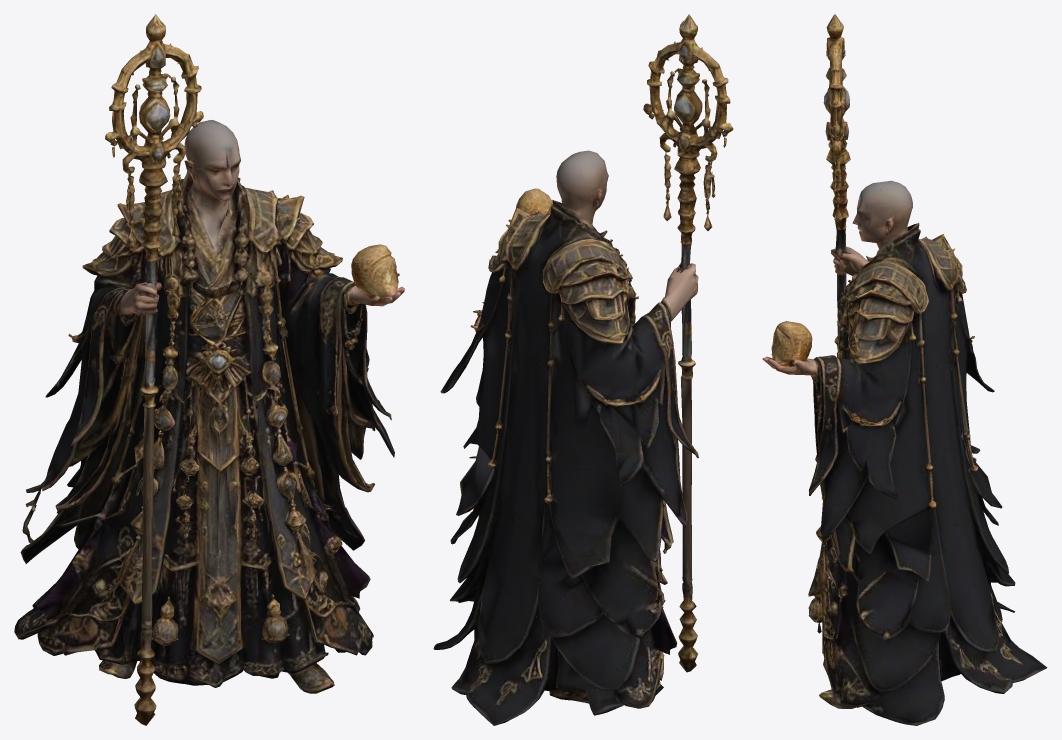
The model's file is mob_ns_dizang.glb.
The picture shows the model from 3 angles, left to right: view 1: azimuth 30°, elevation 25°; view 2: azimuth 150°, elevation 25°; view 3: azimuth 270°, elevation 25°; orthographic projection. The views are drawn at different scales.
Parts seen in each view (by area): view 1: tripo_node_866594e5-d3b6-41bc-a659-3aea738cf879; view 2: tripo_node_866594e5-d3b6-41bc-a659-3aea738cf879; view 3: tripo_node_866594e5-d3b6-41bc-a659-3aea738cf879.
Part boxes in pixels (left/top/right/bottom): tripo_node_866594e5-d3b6-41bc-a659-3aea738cf879: left=14, top=14, right=404, bottom=725; tripo_node_866594e5-d3b6-41bc-a659-3aea738cf879: left=433, top=14, right=733, bottom=725; tripo_node_866594e5-d3b6-41bc-a659-3aea738cf879: left=762, top=14, right=1047, bottom=725.
Size of the model in its own units: 0.417 by 0.9794 by 0.4084.
Materials: 1 (1 with a texture image).
